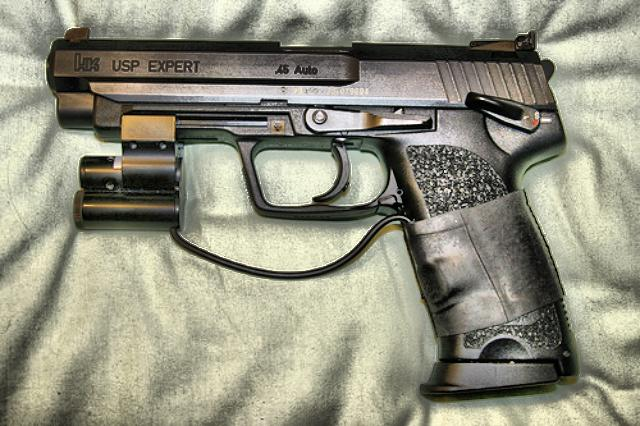pistol: (44, 24, 578, 400)
